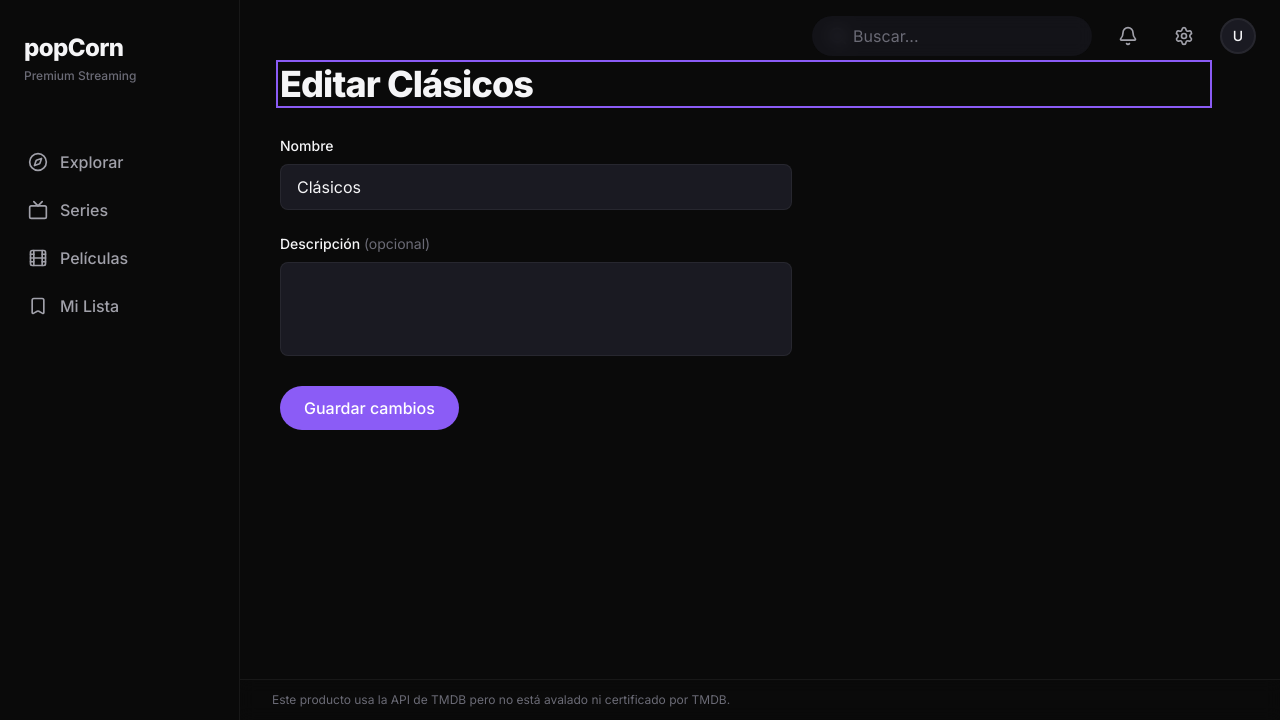
Test: EditListPage › guardar cambios actualiza la lista y vuelve a su ficha
Replace the text in the field labelled "Nombre" with "Clásicos del cine" at x=536, y=187, box [280,164,792,210]
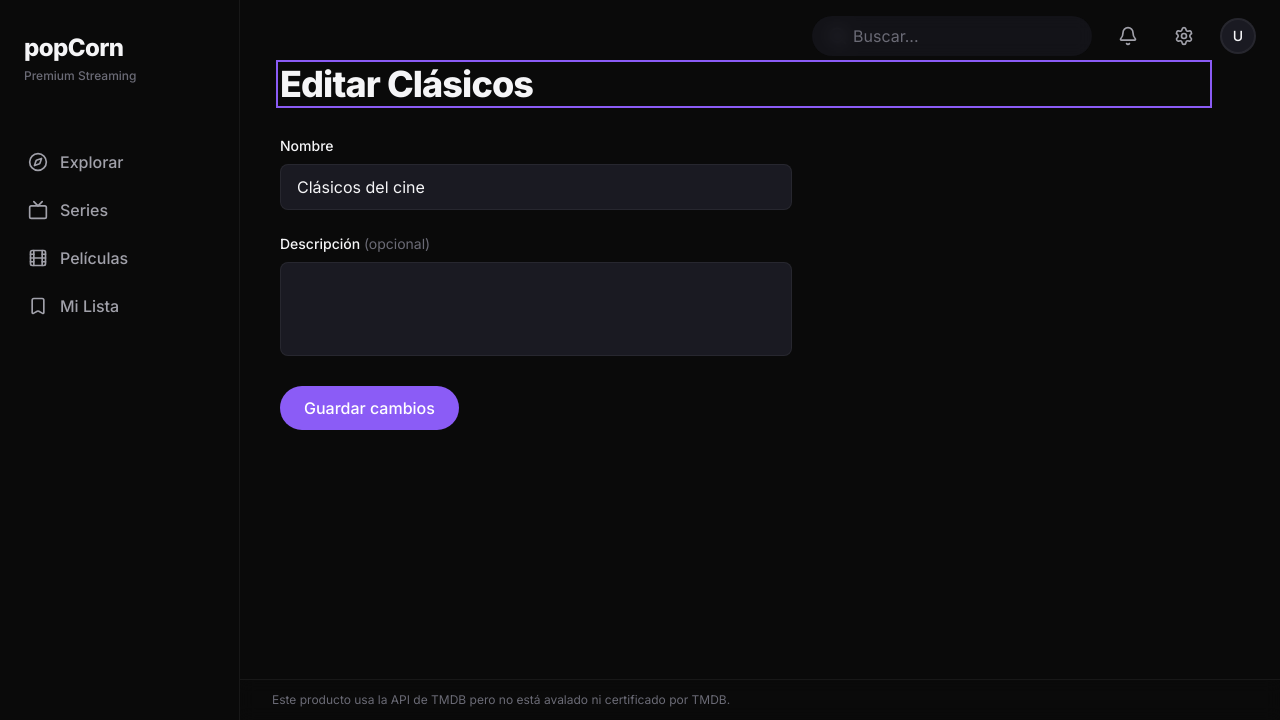
Click the button "Guardar cambios" at x=369, y=408, box [280,386,459,430]
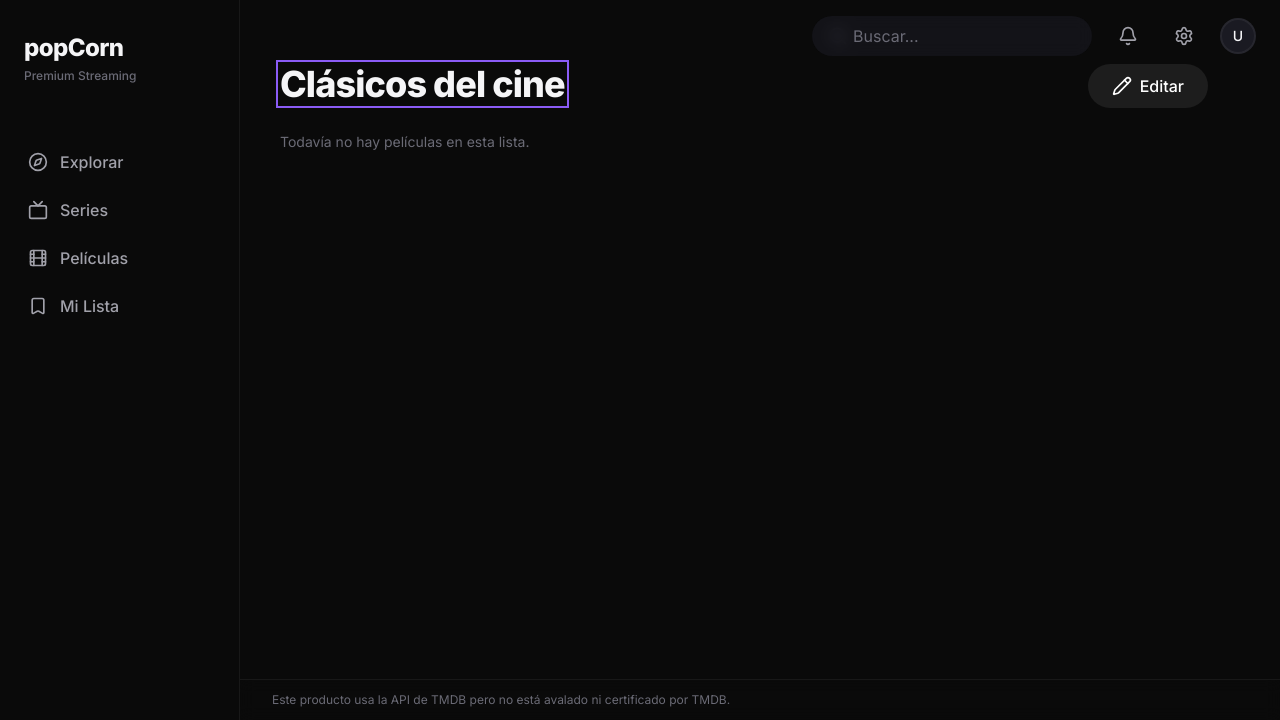
Result: the heading "Clásicos del cine" is shown at [280,64,565,104]
